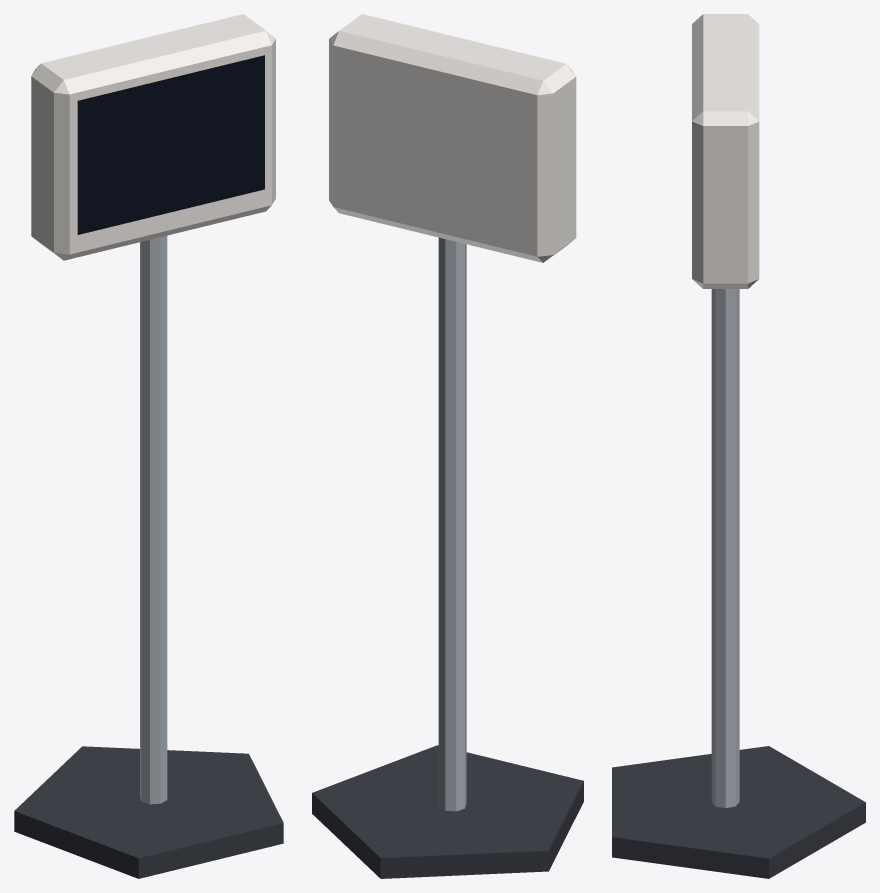
Rendered from vitals_monitor.fbx.
3 views of the same model, side by side, from view 1: azimuth 30°, elevation 25°; view 2: azimuth 150°, elevation 25°; view 3: azimuth 270°, elevation 25° (orthographic). The views are drawn at different scales.
Parts seen in each view (by area): view 1: vitals_monitor; view 2: vitals_monitor; view 3: vitals_monitor.
Boxes of the visible parts, x1,y1,x2,y2 form: vitals_monitor: (14,14,283,878); vitals_monitor: (312,14,583,878); vitals_monitor: (612,14,865,878).
Bounding box in the file's own units: 0.4755 × 1.5 × 0.4523.
